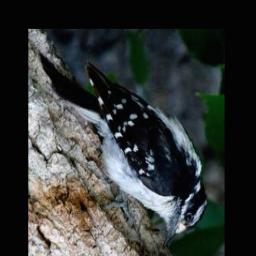Woodpecker: (35, 54, 212, 249)
